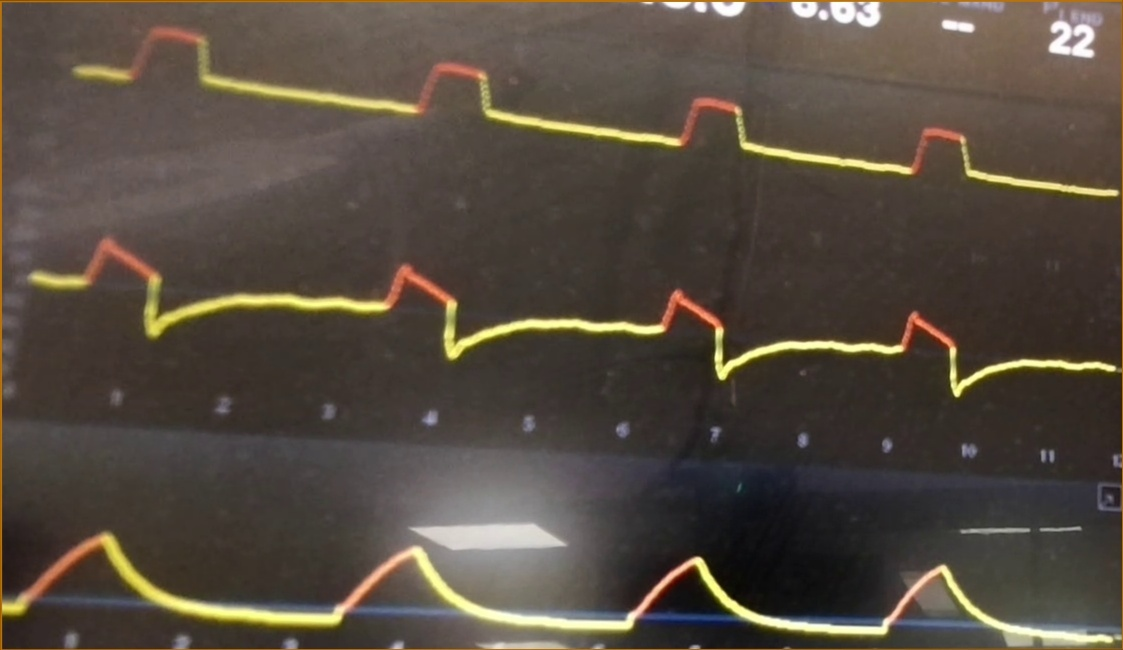Normal Flow: (31, 231, 1113, 399)
Normal Volume: (2, 521, 1114, 643)
